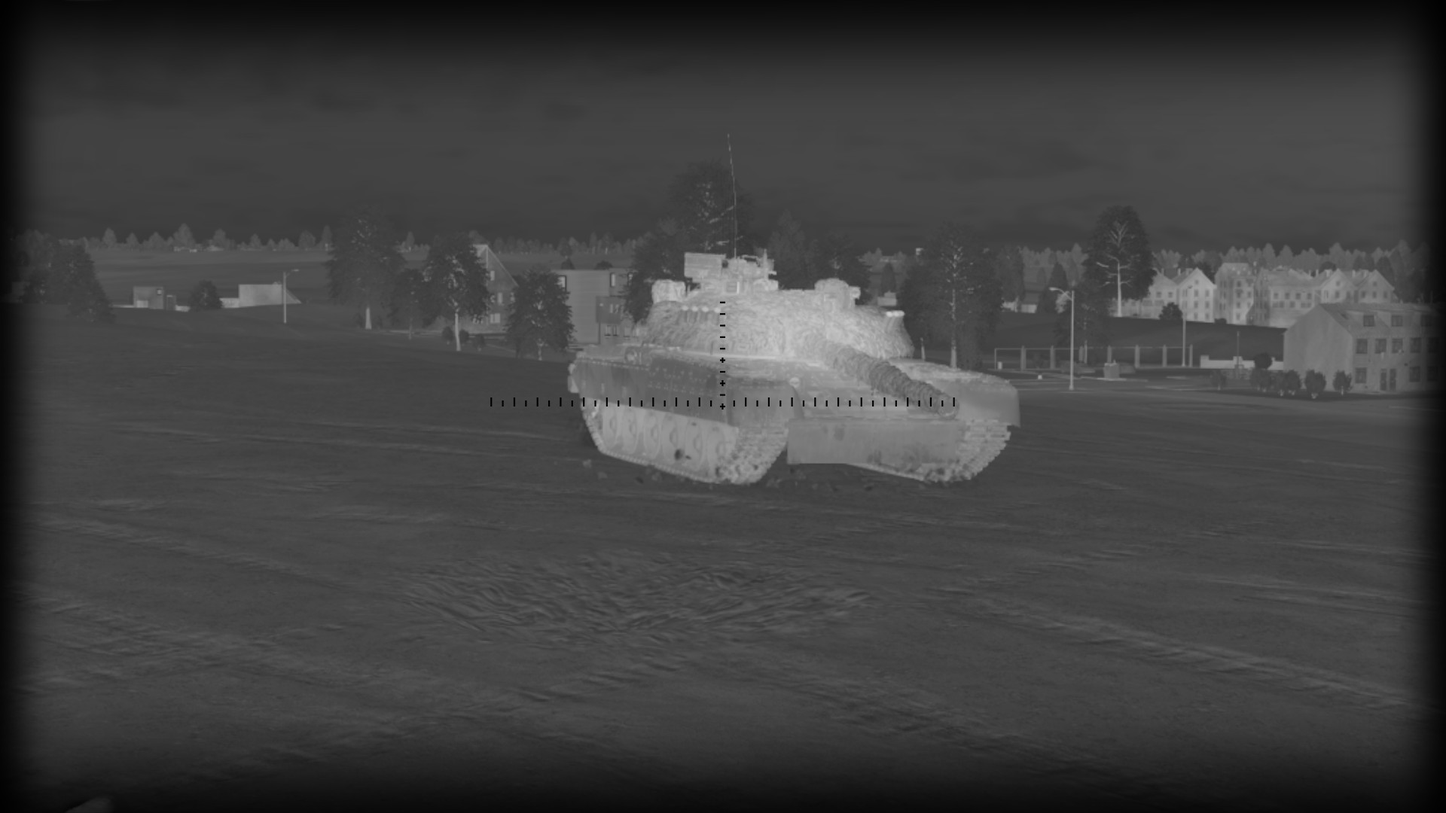t-80u: (565, 250, 1023, 485)
